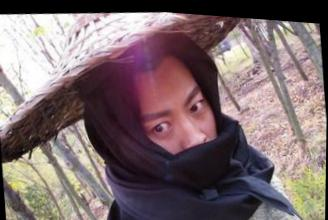WRONG: (127, 70, 228, 181)
